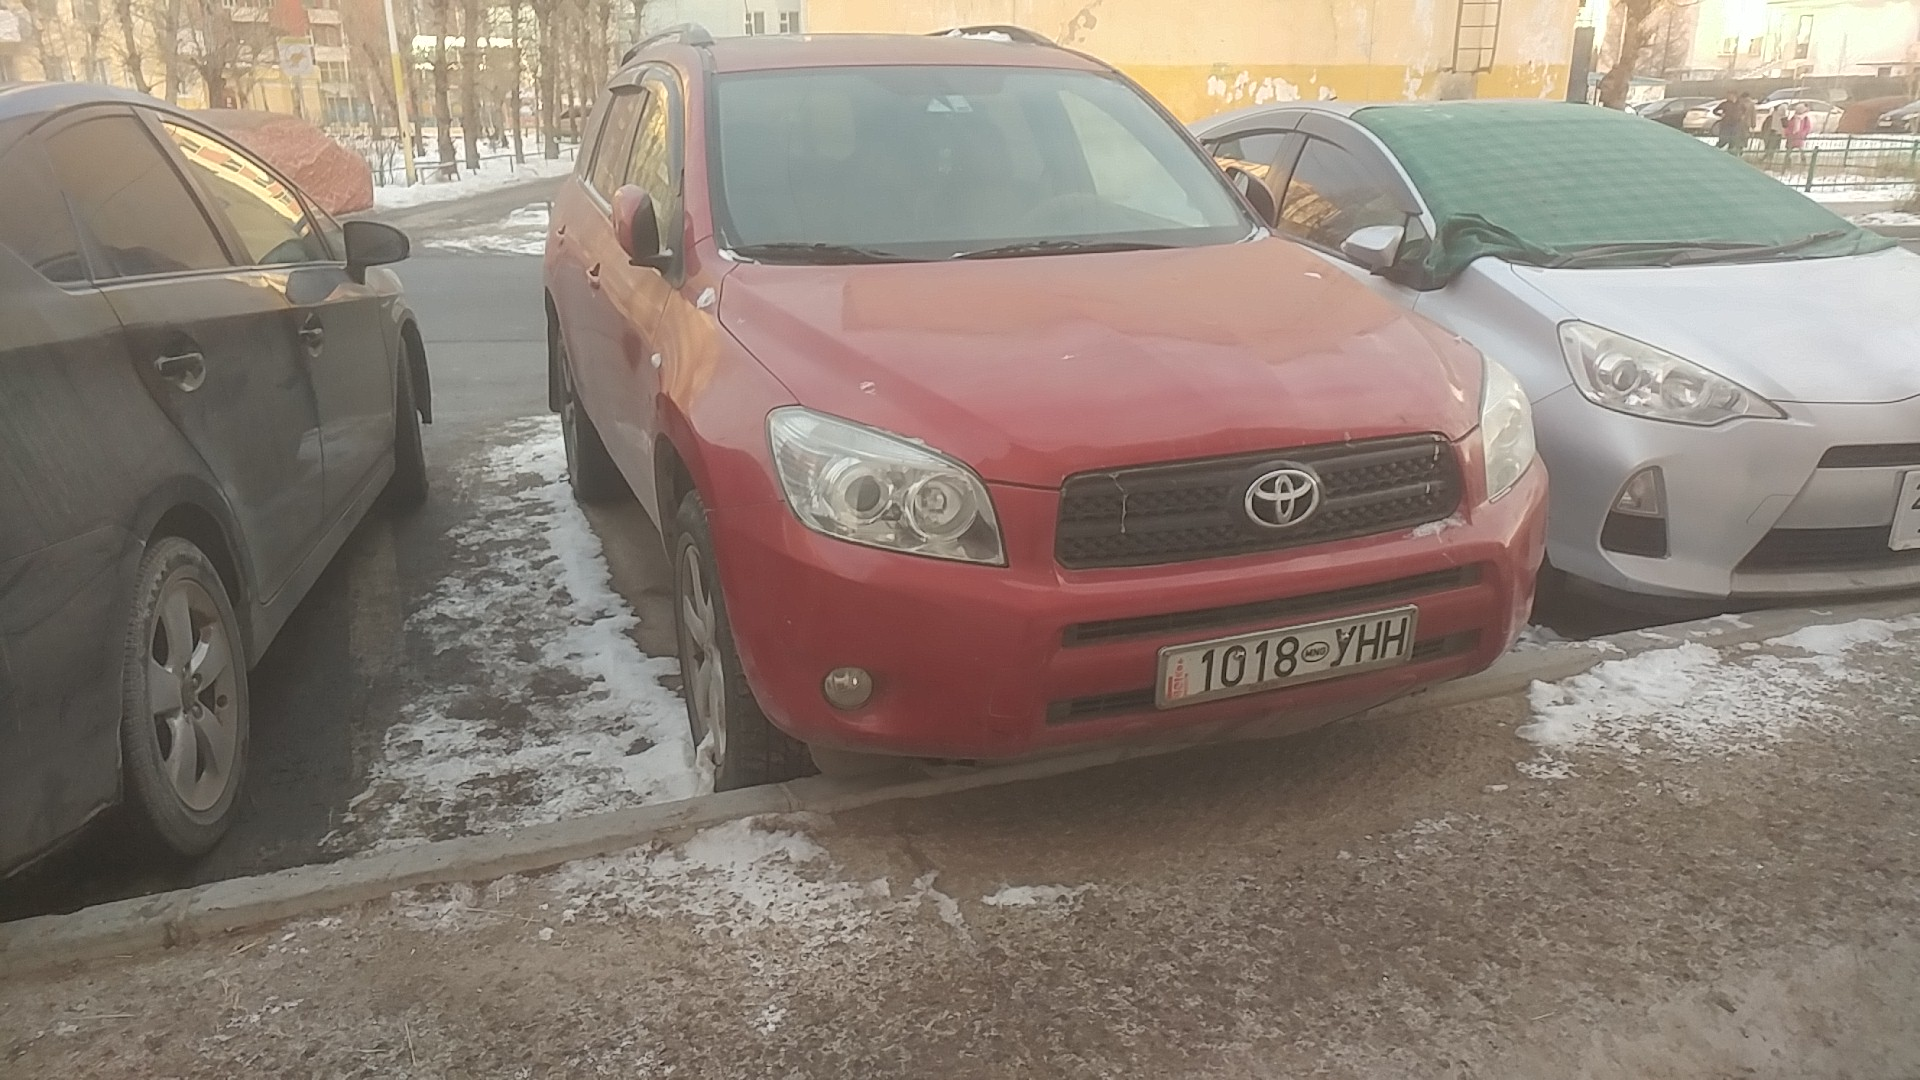0: (1220, 643, 1248, 687)
1: (1200, 647, 1216, 691), (1254, 640, 1270, 682)
8: (1273, 636, 1301, 679)
n: (1379, 615, 1409, 659), (1355, 621, 1383, 664)
plate: (1151, 603, 1421, 713)
u: (1328, 624, 1358, 666)
